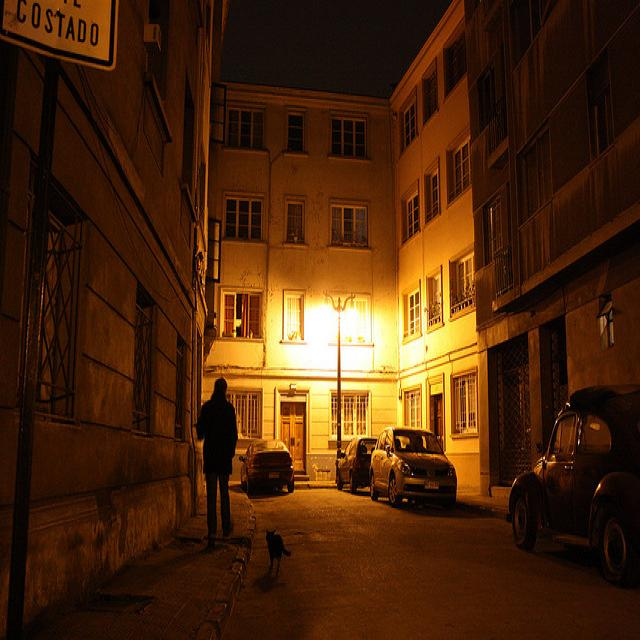Cat: (263, 520, 297, 587)
People: (184, 354, 242, 563)
car: (500, 374, 640, 611), (373, 396, 459, 535), (232, 399, 308, 509), (340, 420, 381, 493)
